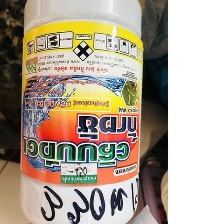insecticide: (16, 0, 145, 224)
